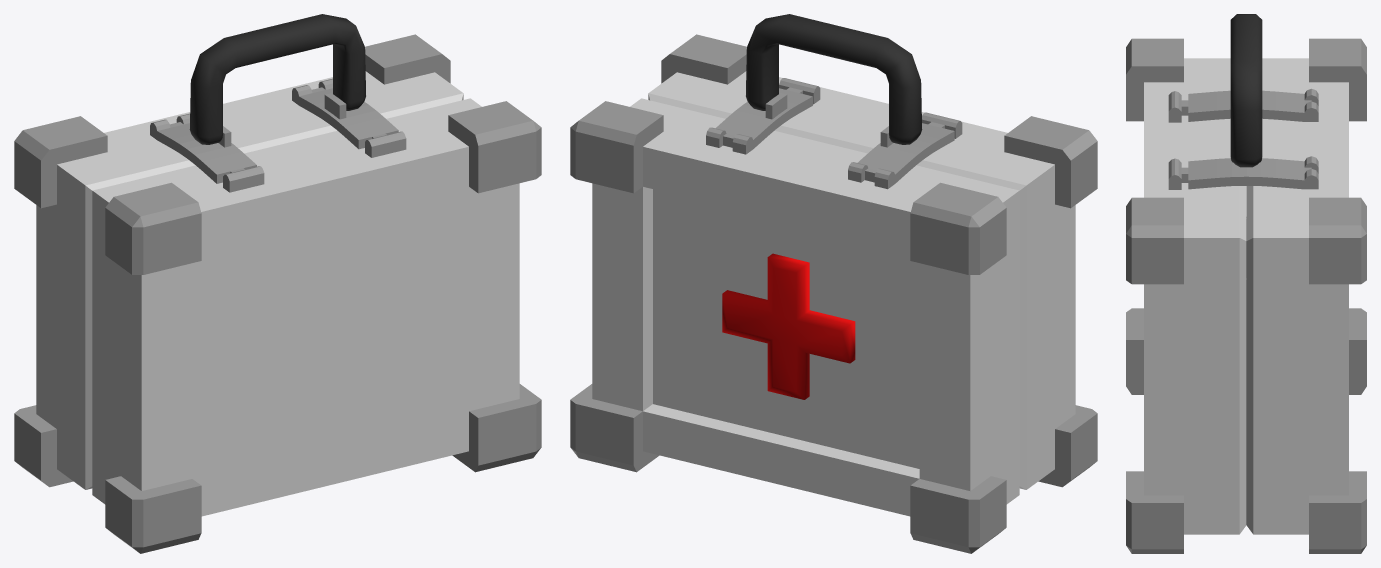
Rendered from MedKit.fbx.
3 views of the same model, side by side, from view 1: azimuth 30°, elevation 25°; view 2: azimuth 150°, elevation 25°; view 3: azimuth 270°, elevation 25° (orthographic). The views are drawn at different scales.
Visible parts, largest first — view 1: Cube, Cube.002, Plane.001; view 2: Cube, Cube.001, Cube.002, Plane.001; view 3: Cube, Plane.001, Cube.002.
Part boxes in pixels (x1,y1,x2,y2): Cube: [14, 34, 541, 553]; Cube.002: [189, 14, 365, 144]; Plane.001: [150, 78, 406, 192]; Cube: [570, 34, 1097, 553]; Cube.001: [722, 253, 855, 399]; Cube.002: [746, 14, 922, 144]; Plane.001: [706, 78, 962, 189]; Cube: [1126, 38, 1366, 553]; Plane.001: [1168, 88, 1318, 189]; Cube.002: [1230, 14, 1262, 167].
Bounding box in the file's own units: 217 × 219 × 113.
